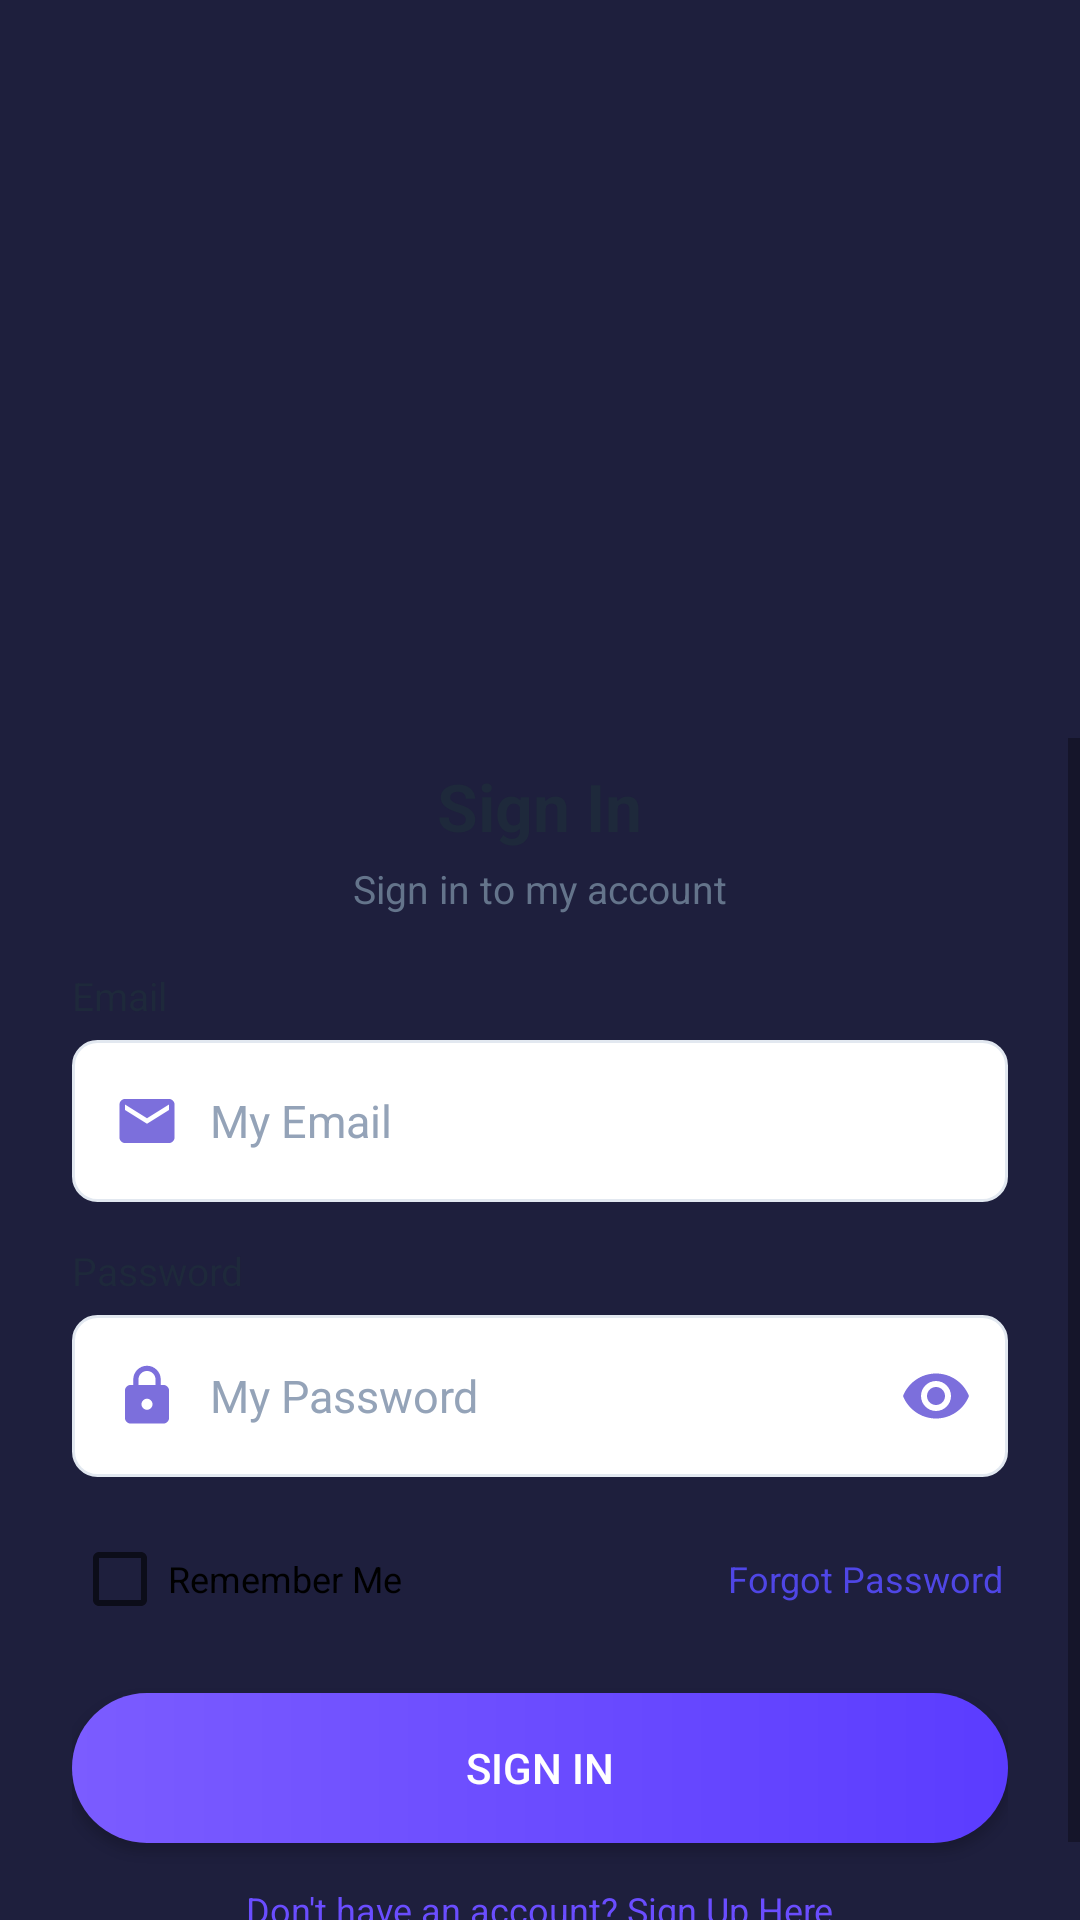

Named icons in this screenshot (1080*1920) and their bounding boxes, (x1, y1, x2, y2):
visibility: (903, 1373, 969, 1419)
